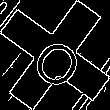O_NE: (23, 22, 87, 88)
